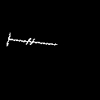treble_crochet: (7, 34, 55, 45)
